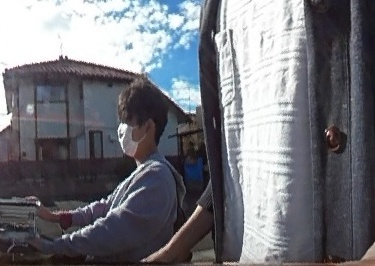person: (39, 77, 180, 266)
